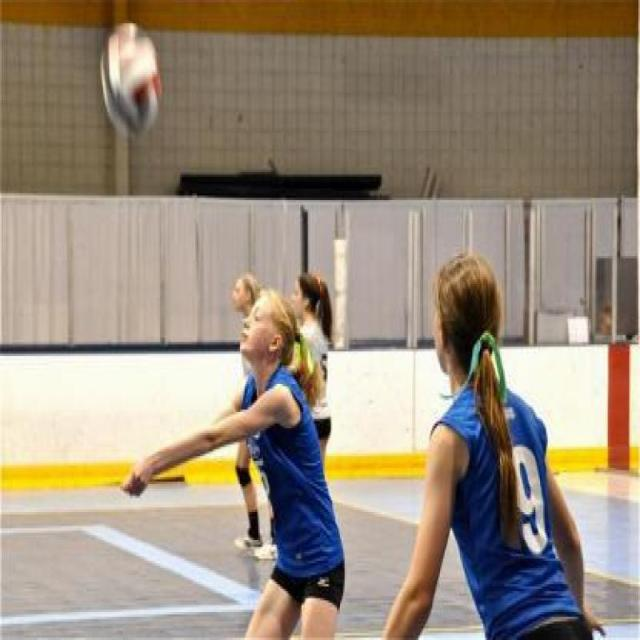volleyball: (96, 16, 162, 133)
